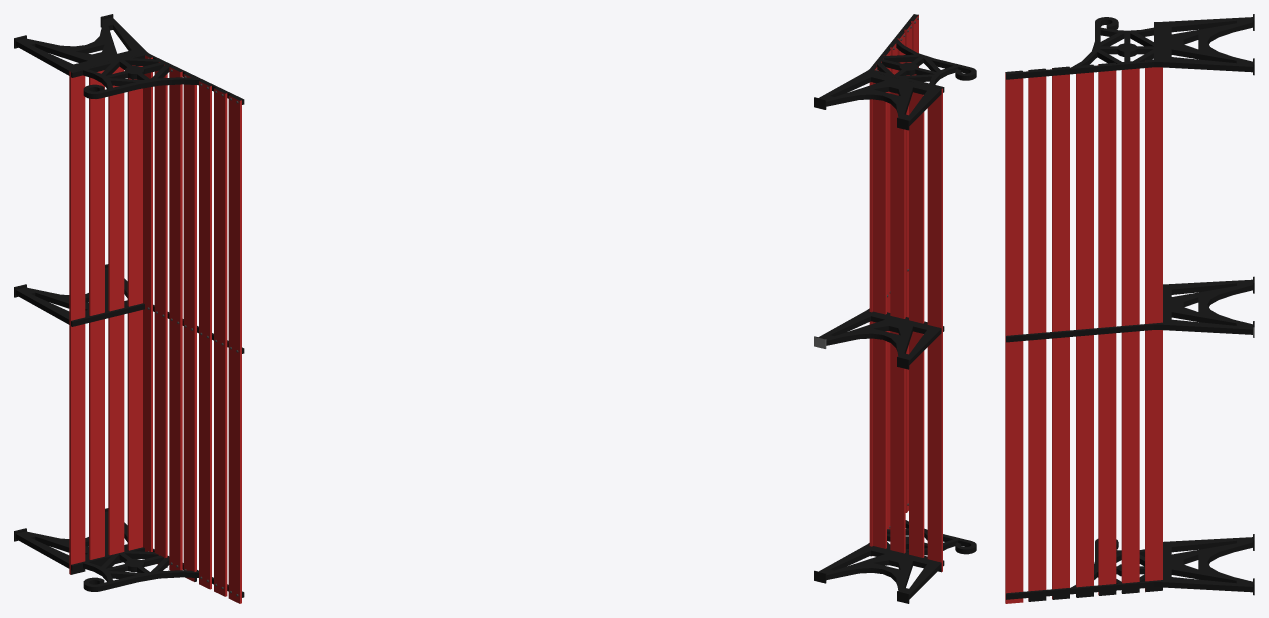
The model's file is BenchThing-LessPolys2.fbx.
3 views of the same model, side by side, from view 1: azimuth 30°, elevation 25°; view 2: azimuth 150°, elevation 25°; view 3: azimuth 270°, elevation 25° (orthographic). The views are drawn at different scales.
Visible parts, largest first — view 1: Feet; view 2: Feet; view 3: Feet.
Boxes of the visible parts, x1,y1,x2,y2 form: Feet: (14,14,244,603); Feet: (814,14,976,603); Feet: (1005,14,1254,603).
Size of the model in its own units: 90.97 by 99.51 by 42.17.
